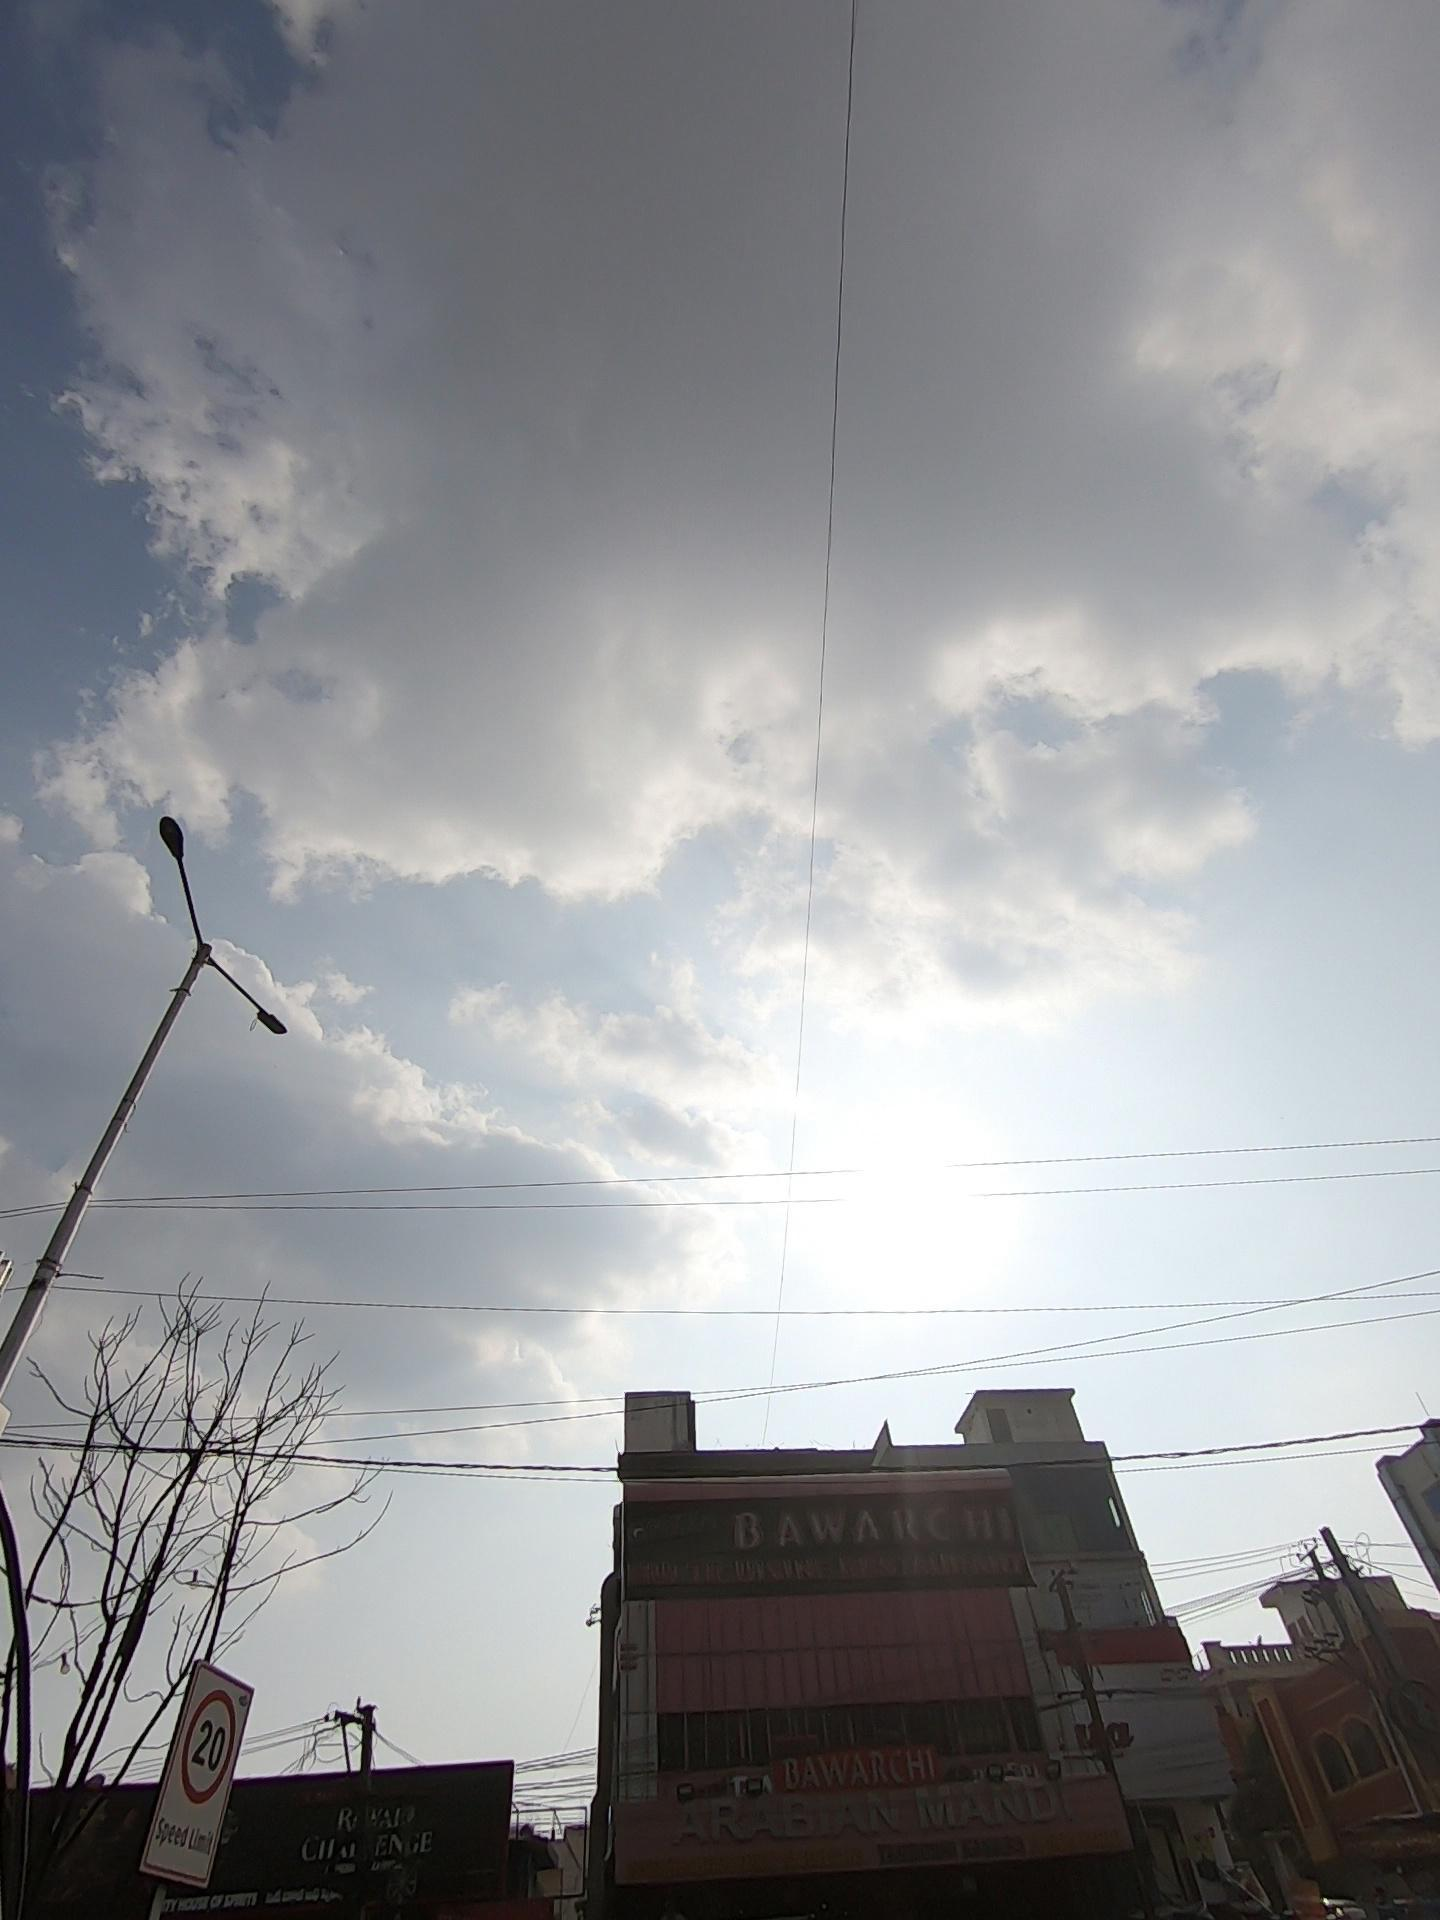off: (150, 771, 355, 1120)
